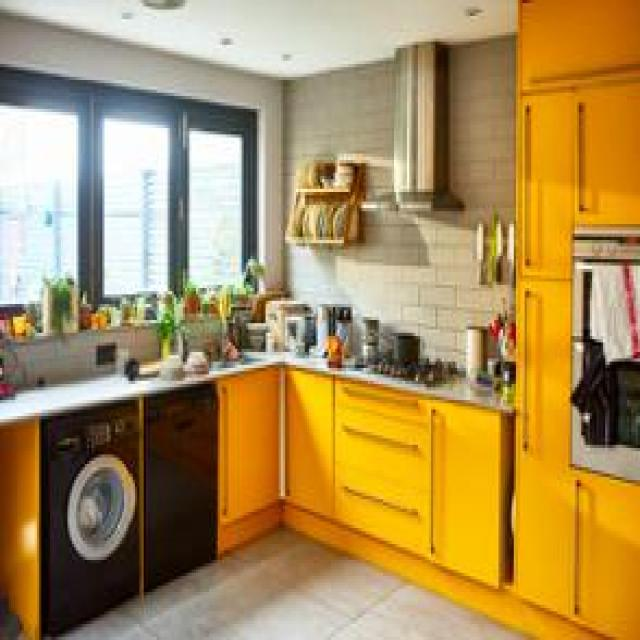dishwasher: (144, 381, 216, 589)
